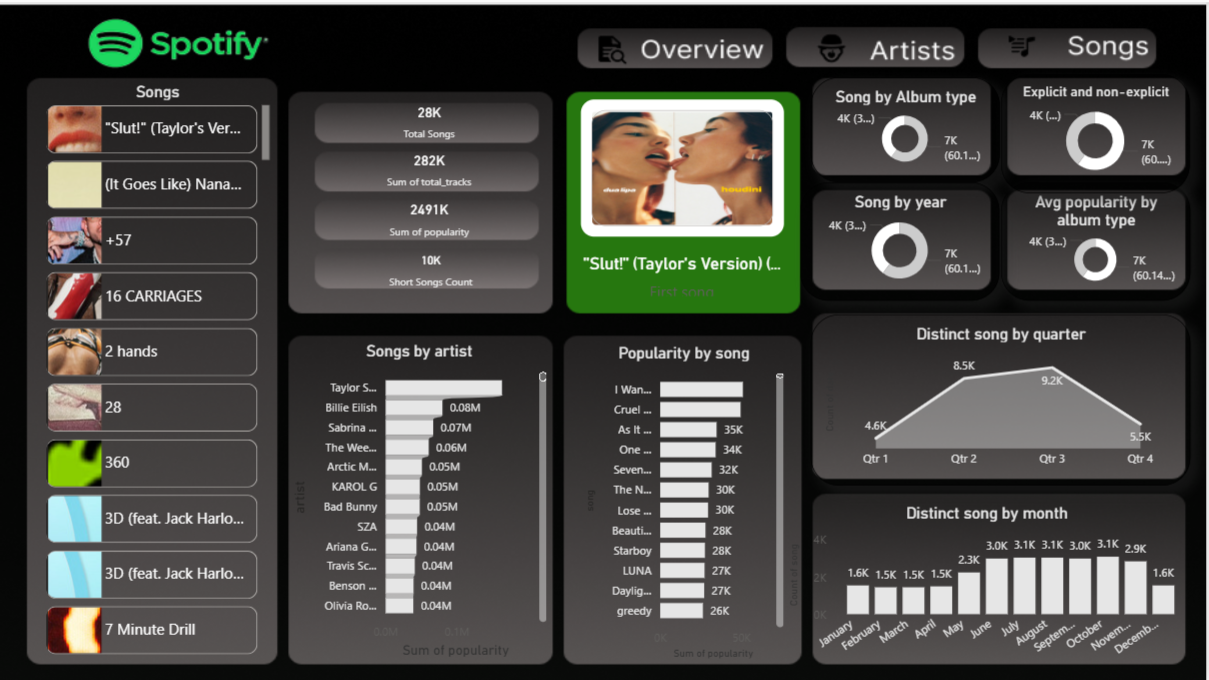

What the dashboard file says about the page in this screenshot:
{"tool":"powerbi","page":{"name":"Page 1","canvas":[1280,720],"ordinal":0},"visuals":[{"type":"barChart","title":"Songs by  artist","fields":{"Category":["top-50-world.artist"],"Y":["Sum(top-50-world.popularity)"]},"box":[305.4,359.5,279.9,338.8],"z":0},{"type":"clusteredBarChart","title":"Popularity by song","fields":{"Y":["Sum(top-50-world.popularity)"],"Category":["top-50-world.song"]},"box":[615.6,361.1,221.1,338.8],"z":1000},{"type":"areaChart","title":"Distinct song by quarter","fields":{"Category":["top-50-world.release_date.Variation.Date Hierarchy.Quarter"],"Y":["CountNonNull(top-50-world.date)"]},"box":[860.5,330.8,402.4,181.3],"z":2000},{"type":"donutChart","title":"Song by Album type","fields":{"Y":["-Measure.Explicit Songs Count"],"Category":["top-50-world.album_type","top-50-world.artist"]},"box":[860.5,79.5,200.4,111.3],"z":3000},{"type":"donutChart","title":"Song by year","fields":{"Y":["-Measure.Explicit Songs Count"],"Category":["top-50-world.album_type","top-50-world.artist"]},"box":[849.4,190.9,211.6,125.7],"z":5000},{"type":"donutChart","title":"Avg popularity by album type","fields":{"Y":["-Measure.Explicit Songs Count"],"Category":["top-50-world.album_type","top-50-world.artist"]},"box":[1062.5,190.9,200.4,125.7],"z":6000},{"type":"columnChart","title":"Distinct song by month","fields":{"Category":["top-50-world.date.Variation.Date Hierarchy.Month"],"Y":["CountNonNull(top-50-world.song)"]},"box":[831.9,531.3,431.1,171.8],"z":7000},{"type":"card","fields":{"Values":["-Measure.Total Songs"]},"box":[358.6,97.1,195.7,54.3],"z":8000},{"type":"card","fields":{"Values":["Sum(top-50-world.total_tracks)"]},"box":[358.6,148.6,195.7,54.3],"z":9000},{"type":"card","fields":{"Values":["Sum(top-50-world.popularity)"]},"box":[358.6,200,195.7,54.3],"z":10000},{"type":"card","fields":{"Values":["-Measure.Short Songs Count"]},"box":[360,254.3,195.7,55.7],"z":11000},{"type":"advancedSlicerVisual","title":"Songs","fields":{"Values":["top-50-world.song"]},"box":[44,85,247,618],"z":12000},{"type":"cardVisual","fields":{"Data":["Min(top-50-world.album_cover_url)"]},"box":[610,97.1,227.1,157.1],"z":13000},{"type":"card","fields":{"Values":["Min(top-50-world.song)"]},"box":[611.4,260,225.7,57.1],"z":14000},{"type":"donutChart","title":"Explicit and non-explicit","fields":{"Y":["-Measure.Explicit Songs Count"],"Category":["top-50-world.album_type","top-50-world.artist"]},"box":[1062.9,77.1,200,125.7],"z":14001}]}

Visuals, with their boxes in screenshot pixels (x1, y1, x2, y2), scaled from the page's 1280x720 canvas onto the 1209x680 screenshot:
"Songs by  artist" barChart: bbox=(288, 340, 553, 660)
"Popularity by song" clusteredBarChart: bbox=(581, 341, 790, 661)
"Distinct song by quarter" areaChart: bbox=(813, 312, 1193, 484)
"Song by Album type" donutChart: bbox=(813, 75, 1002, 180)
"Song by year" donutChart: bbox=(802, 180, 1002, 299)
"Avg popularity by album type" donutChart: bbox=(1004, 180, 1193, 299)
"Distinct song by month" columnChart: bbox=(786, 502, 1193, 664)
card - -Measure.Total Songs: bbox=(339, 92, 524, 143)
card - Sum(top-50-world.total_tracks): bbox=(339, 140, 524, 192)
card - Sum(top-50-world.popularity): bbox=(339, 189, 524, 240)
card - -Measure.Short Songs Count: bbox=(340, 240, 525, 293)
"Songs" advancedSlicerVisual: bbox=(42, 80, 275, 664)
cardVisual - Min(top-50-world.album_cover_url): bbox=(576, 92, 791, 240)
card - Min(top-50-world.song): bbox=(577, 246, 791, 299)
"Explicit and non-explicit" donutChart: bbox=(1004, 73, 1193, 192)
